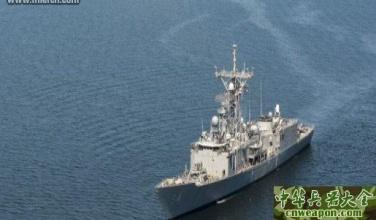warship: (154, 38, 329, 217)
